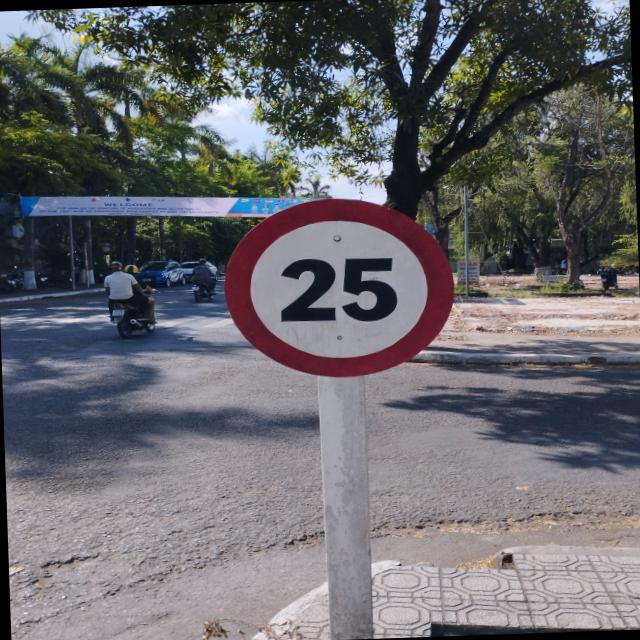Tre_Em: (220, 192, 461, 382)
